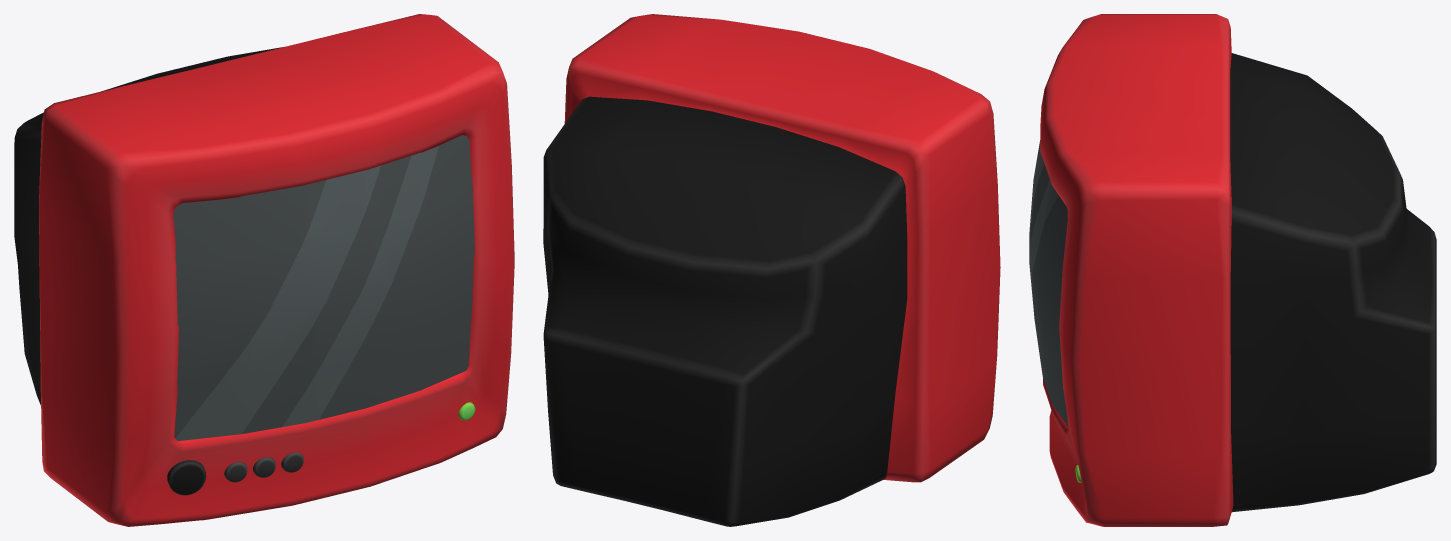
3 views of the same model, side by side, from view 1: azimuth 30°, elevation 25°; view 2: azimuth 150°, elevation 25°; view 3: azimuth 270°, elevation 25° (orthographic). The views are drawn at different scales.
Visible parts, largest first — view 1: tv; view 2: tv; view 3: tv.
Part boxes in pixels (x1,y1,x2,y2): tv: (14, 14, 514, 526); tv: (543, 14, 1000, 526); tv: (1029, 14, 1436, 526).
Bounding box in the file's own units: 1.35 × 1.21 × 1.29.
